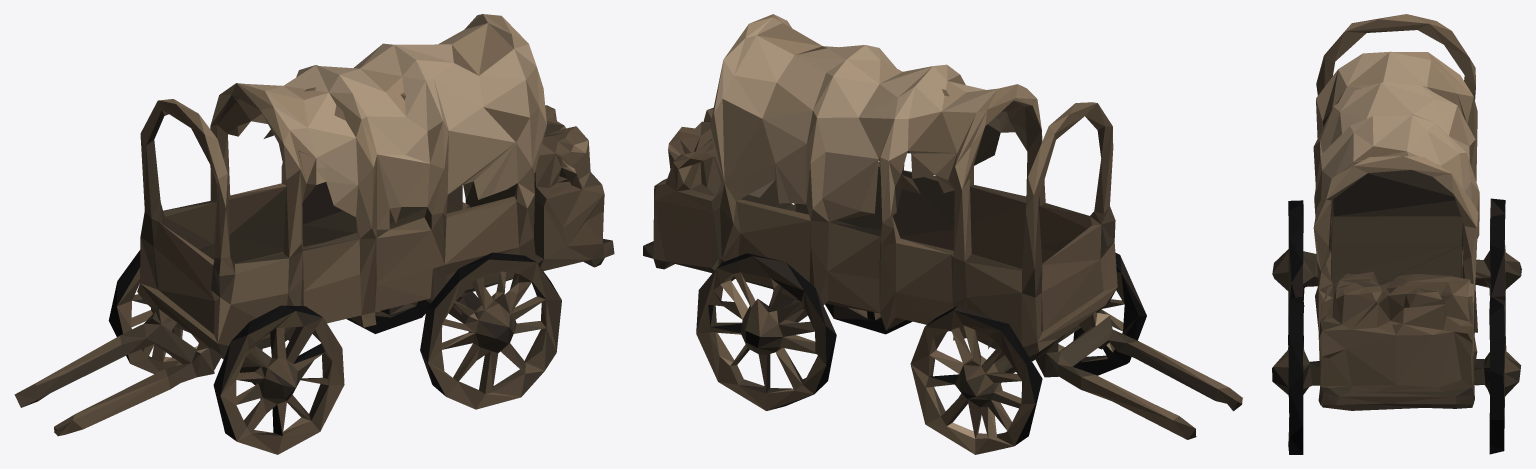
The model's file is caravan.glb.
3 renders of one model, left to right at view 1: azimuth 30°, elevation 25°; view 2: azimuth 150°, elevation 25°; view 3: azimuth 270°, elevation 25°, orthographic. The views are drawn at different scales.
Visible parts, largest first — view 1: caravan; view 2: caravan; view 3: caravan.
Part boxes in pixels (x1=…): caravan: x1=14, y1=14, x2=614, y2=454; caravan: x1=643, y1=14, x2=1242, y2=454; caravan: x1=1272, y1=14, x2=1521, y2=454.
Size of the model in its own units: 6.59 by 3.88 by 2.73.
